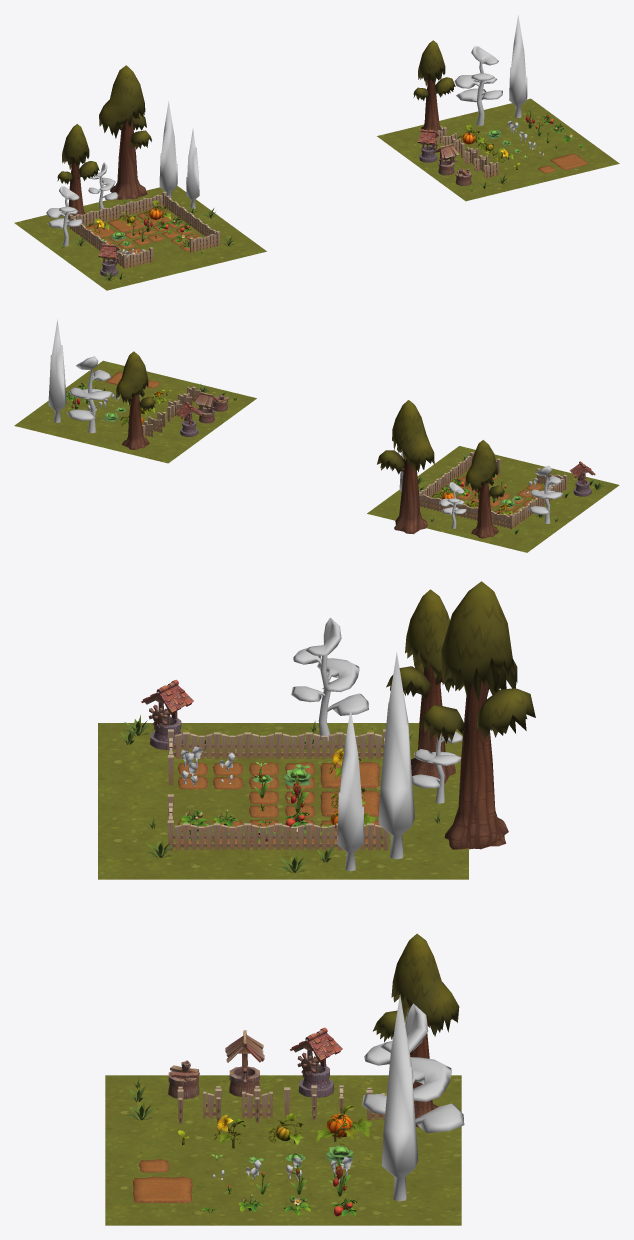
File: prev.FBX
3 renders of one model, top to bottom at view 1: azimuth 30°, elevation 25°; view 2: azimuth 150°, elevation 25°; view 3: azimuth 270°, elevation 25°, orthographic. The views are drawn at different scales.
Visible parts, largest first — view 1: grass001, grass, bigTree001, bigTree002, bigTree, forest_tree_005, forest_tree_006, forest_tree_003, forest_tree_2, forest_tree_1, well_004, well_3 (+3 smaller); view 2: grass001, grass, bigTree001, bigTree, bigTree002, forest_tree_005, forest_tree_006, forest_tree_2, forest_tree_004, well_3, well_004, well_2; view 3: grass001, grass, bigTree001, bigTree, bigTree002, forest_tree_003, forest_tree_006, forest_tree_005, forest_tree_2, forest_tree_1, well_004, well_3 (+6 smaller).
Part boxes in pixels (box(x1,y1,x2,y2)): grass001: box(377, 98, 619, 201); grass: box(14, 185, 266, 290); bigTree001: box(99, 65, 151, 199); bigTree002: box(413, 40, 455, 137); bigTree: box(57, 124, 99, 218); forest_tree_005: box(454, 46, 502, 125); forest_tree_006: box(509, 15, 527, 117); forest_tree_003: box(159, 101, 177, 199); forest_tree_2: box(46, 186, 82, 246); forest_tree_1: box(186, 129, 199, 208); well_004: box(417, 129, 438, 162); well_3: box(98, 243, 119, 276); grass001: box(14, 360, 256, 463); grass: box(367, 446, 619, 552); bigTree001: box(377, 400, 434, 534); bigTree: box(465, 440, 504, 538); bigTree002: box(116, 351, 155, 449); forest_tree_005: box(66, 356, 113, 433); forest_tree_006: box(48, 319, 66, 422); forest_tree_2: box(528, 465, 563, 523); forest_tree_004: box(439, 482, 466, 528); well_3: box(570, 461, 595, 496); well_004: box(176, 401, 201, 436); well_2: box(194, 391, 218, 423); grass001: box(105, 1075, 461, 1225); grass: box(98, 723, 468, 879); bigTree001: box(420, 581, 535, 849); bigTree: box(386, 589, 461, 783); bigTree002: box(373, 933, 459, 1127); forest_tree_003: box(378, 652, 414, 859); forest_tree_006: box(381, 994, 418, 1201); forest_tree_005: box(362, 1003, 464, 1132); forest_tree_2: box(291, 617, 368, 740); forest_tree_1: box(337, 709, 363, 871); well_004: box(290, 1027, 342, 1097); well_3: box(141, 679, 193, 750).
Bounding box in the file's own units: 1931 × 467 × 711.
